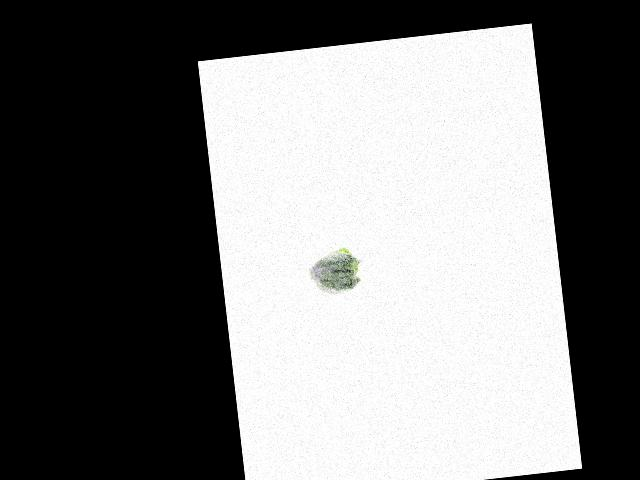lettuce: (306, 244, 363, 298)
